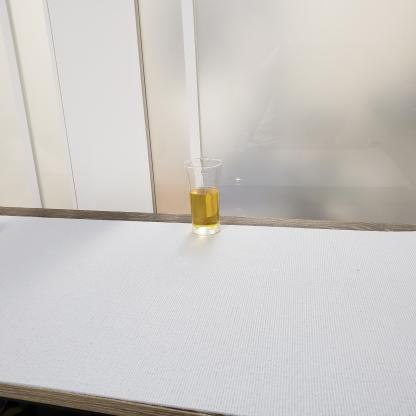glass: (179, 153, 233, 244)
